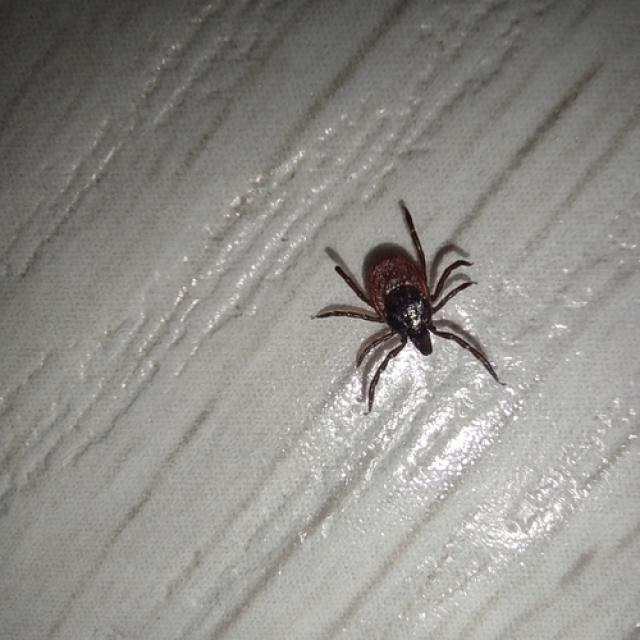Ixodes Ricinus-F: (314, 209, 503, 411)
